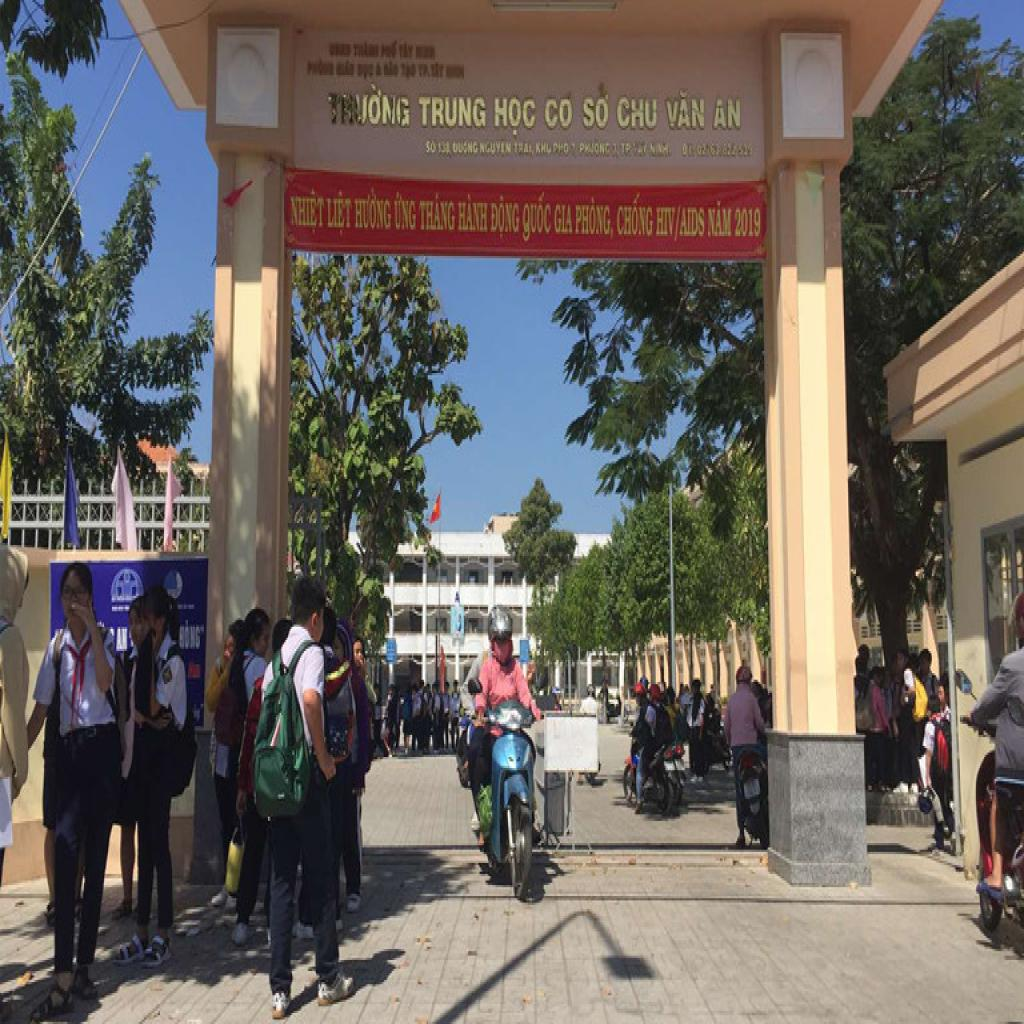text: (325, 82, 412, 130), (417, 93, 488, 132), (492, 93, 537, 141), (575, 194, 616, 243), (616, 192, 655, 243), (654, 203, 706, 241), (664, 88, 707, 132), (354, 188, 394, 234), (288, 188, 325, 236), (522, 190, 554, 245), (616, 93, 660, 132), (420, 192, 456, 234), (490, 196, 522, 240), (326, 190, 354, 238), (458, 194, 490, 236), (581, 93, 612, 132), (712, 93, 743, 132), (542, 95, 574, 132), (393, 190, 419, 232), (707, 198, 733, 240), (553, 203, 575, 236), (479, 139, 513, 157), (354, 42, 382, 62), (580, 141, 612, 157), (452, 139, 479, 157), (380, 37, 399, 62), (398, 60, 418, 82), (512, 141, 536, 159), (397, 42, 416, 62), (552, 141, 571, 159), (116, 627, 129, 653), (536, 141, 552, 157), (425, 139, 439, 157)
